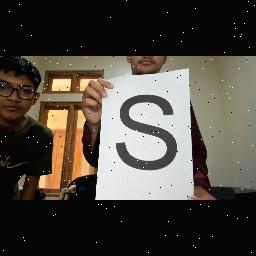s: (108, 92, 186, 174)
